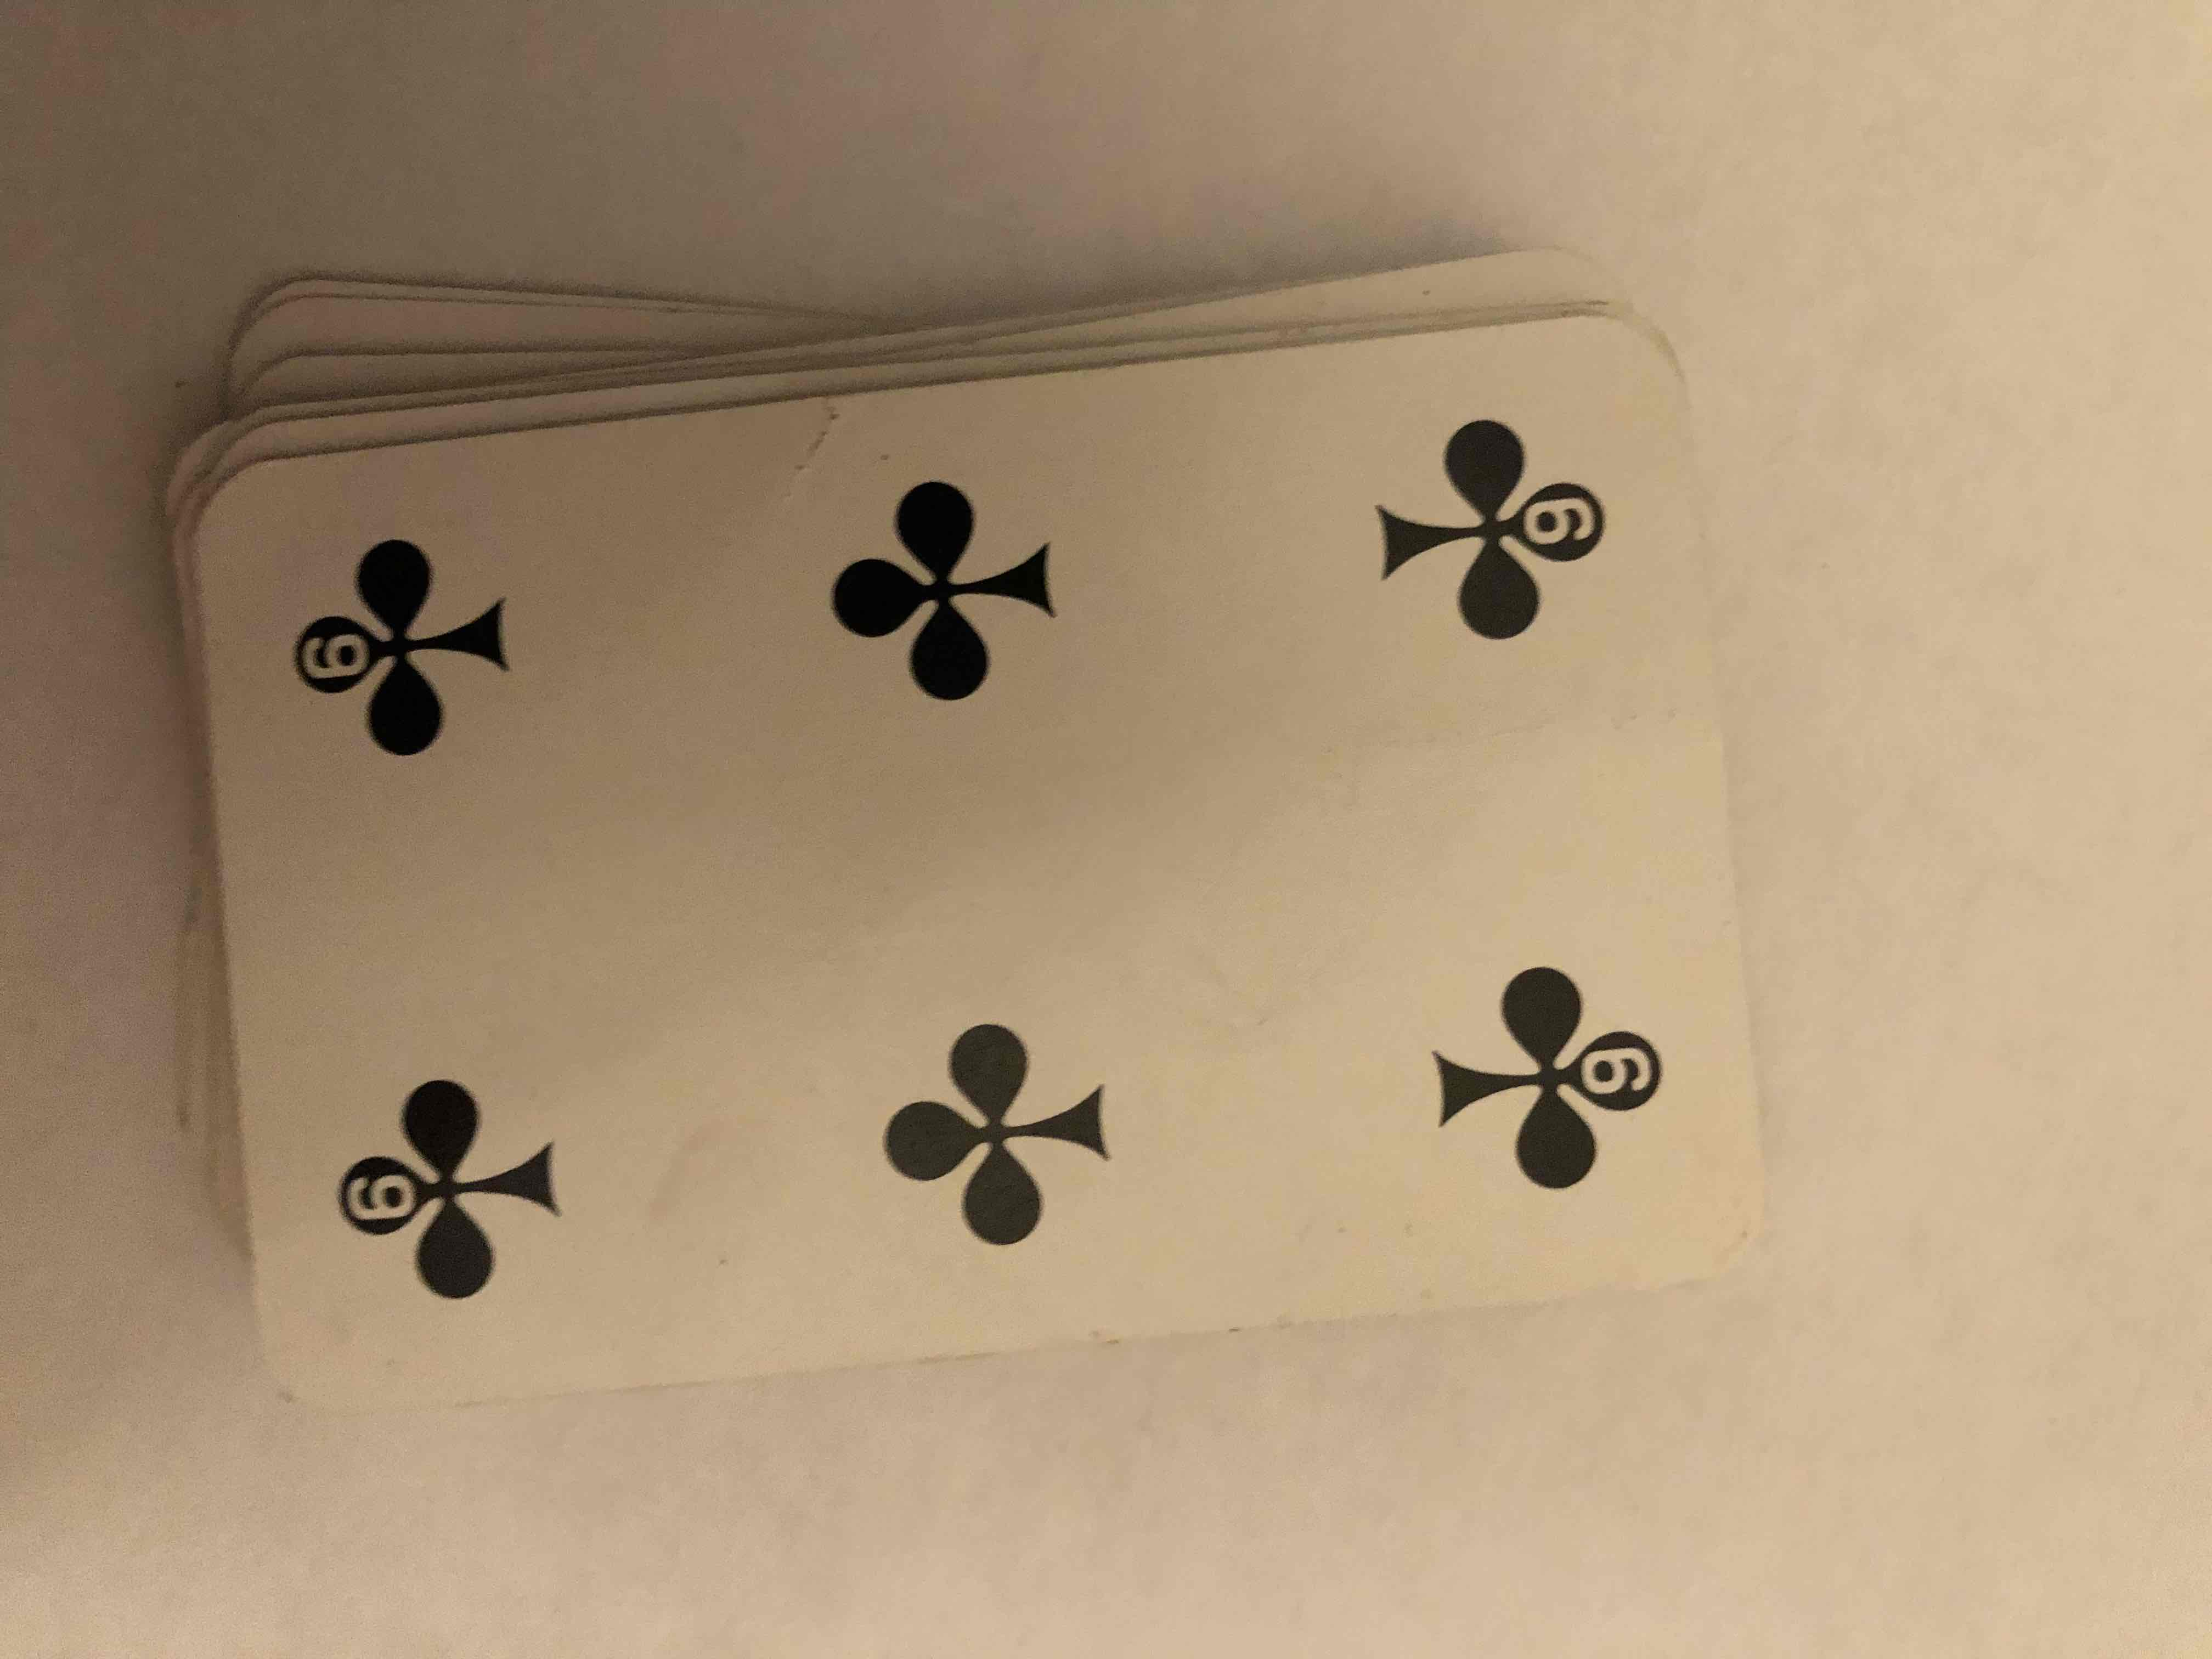clubs6: (202, 359, 1813, 1338)
